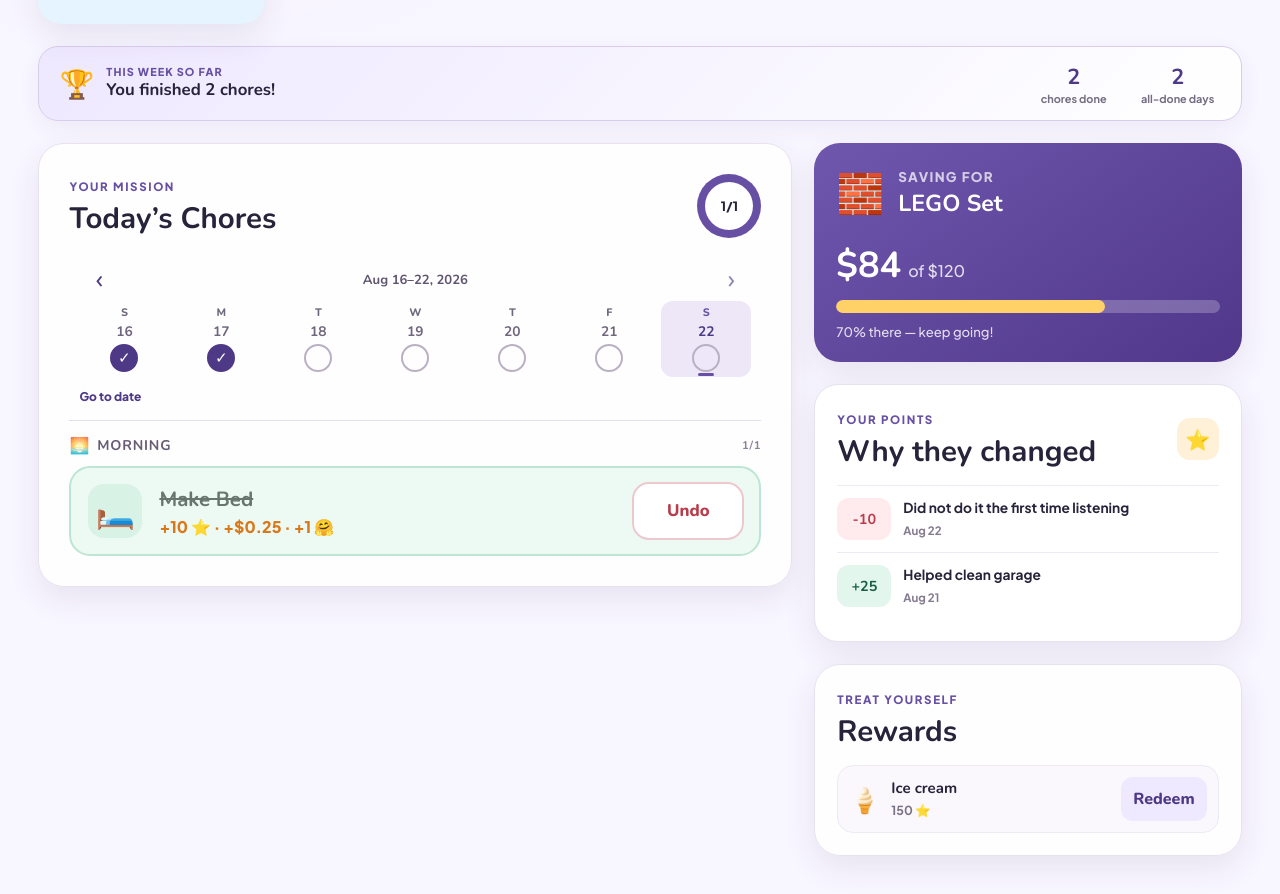
Scenario: Kids Chores app › lets a kid undo a completed chore
(page scrolled)
Click the button with aria-label "Undo Make Bed": (688, 511) [632, 482, 744, 540]
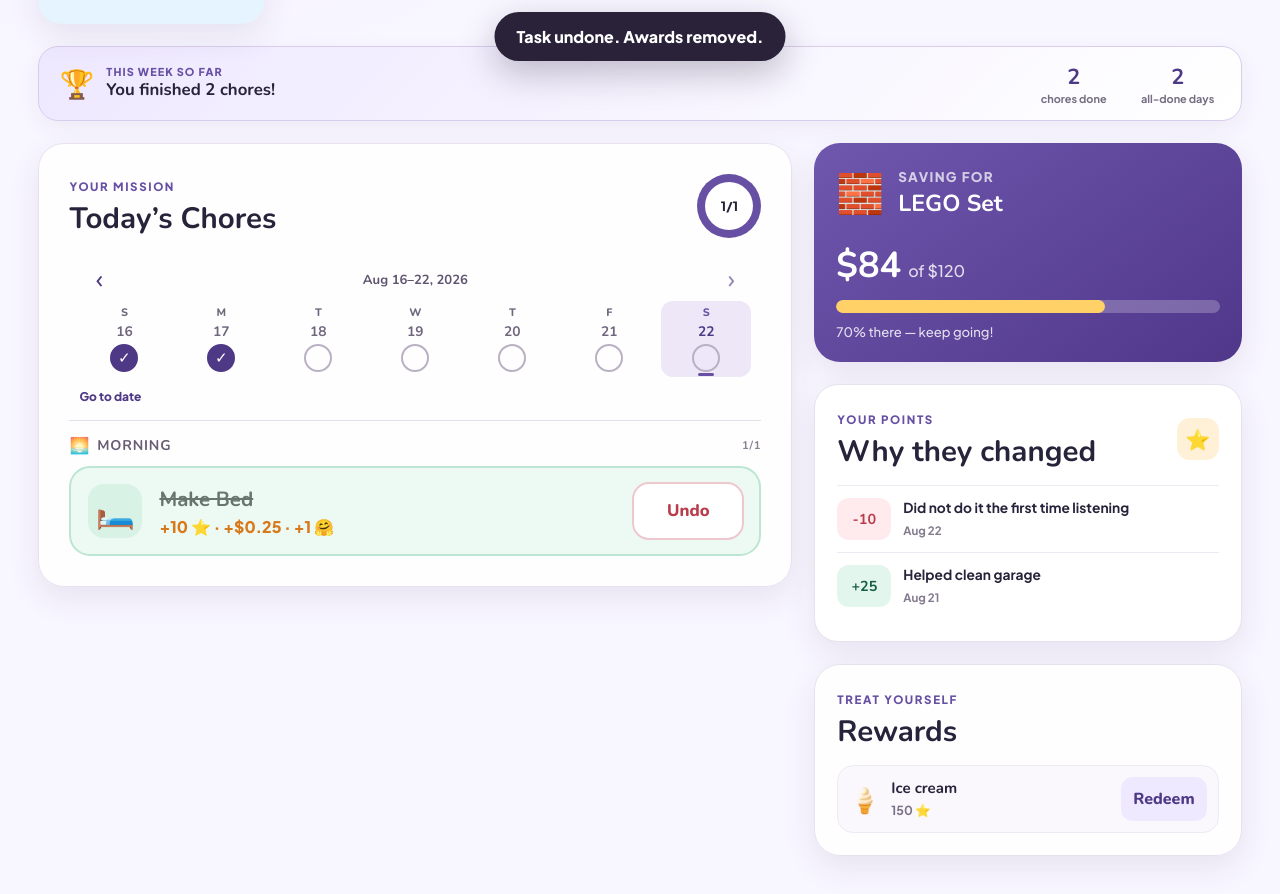
expect the message reads "Task undone. Awards removed.": met, box [516, 26, 764, 47]
